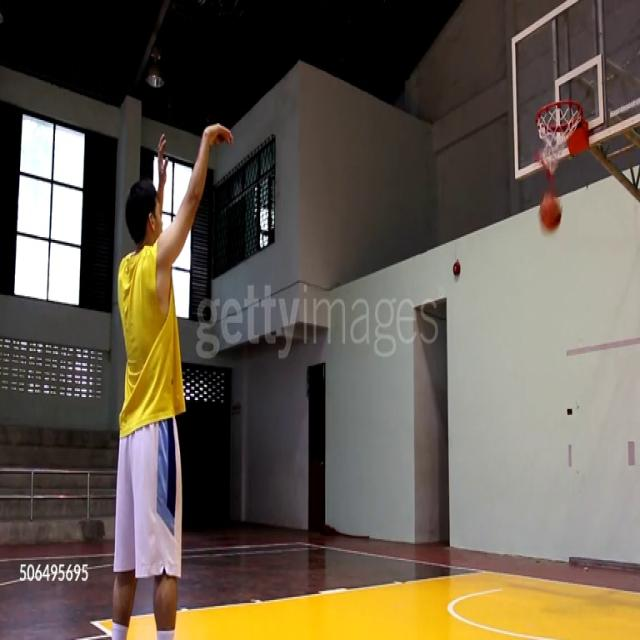ball: (539, 192, 563, 232)
